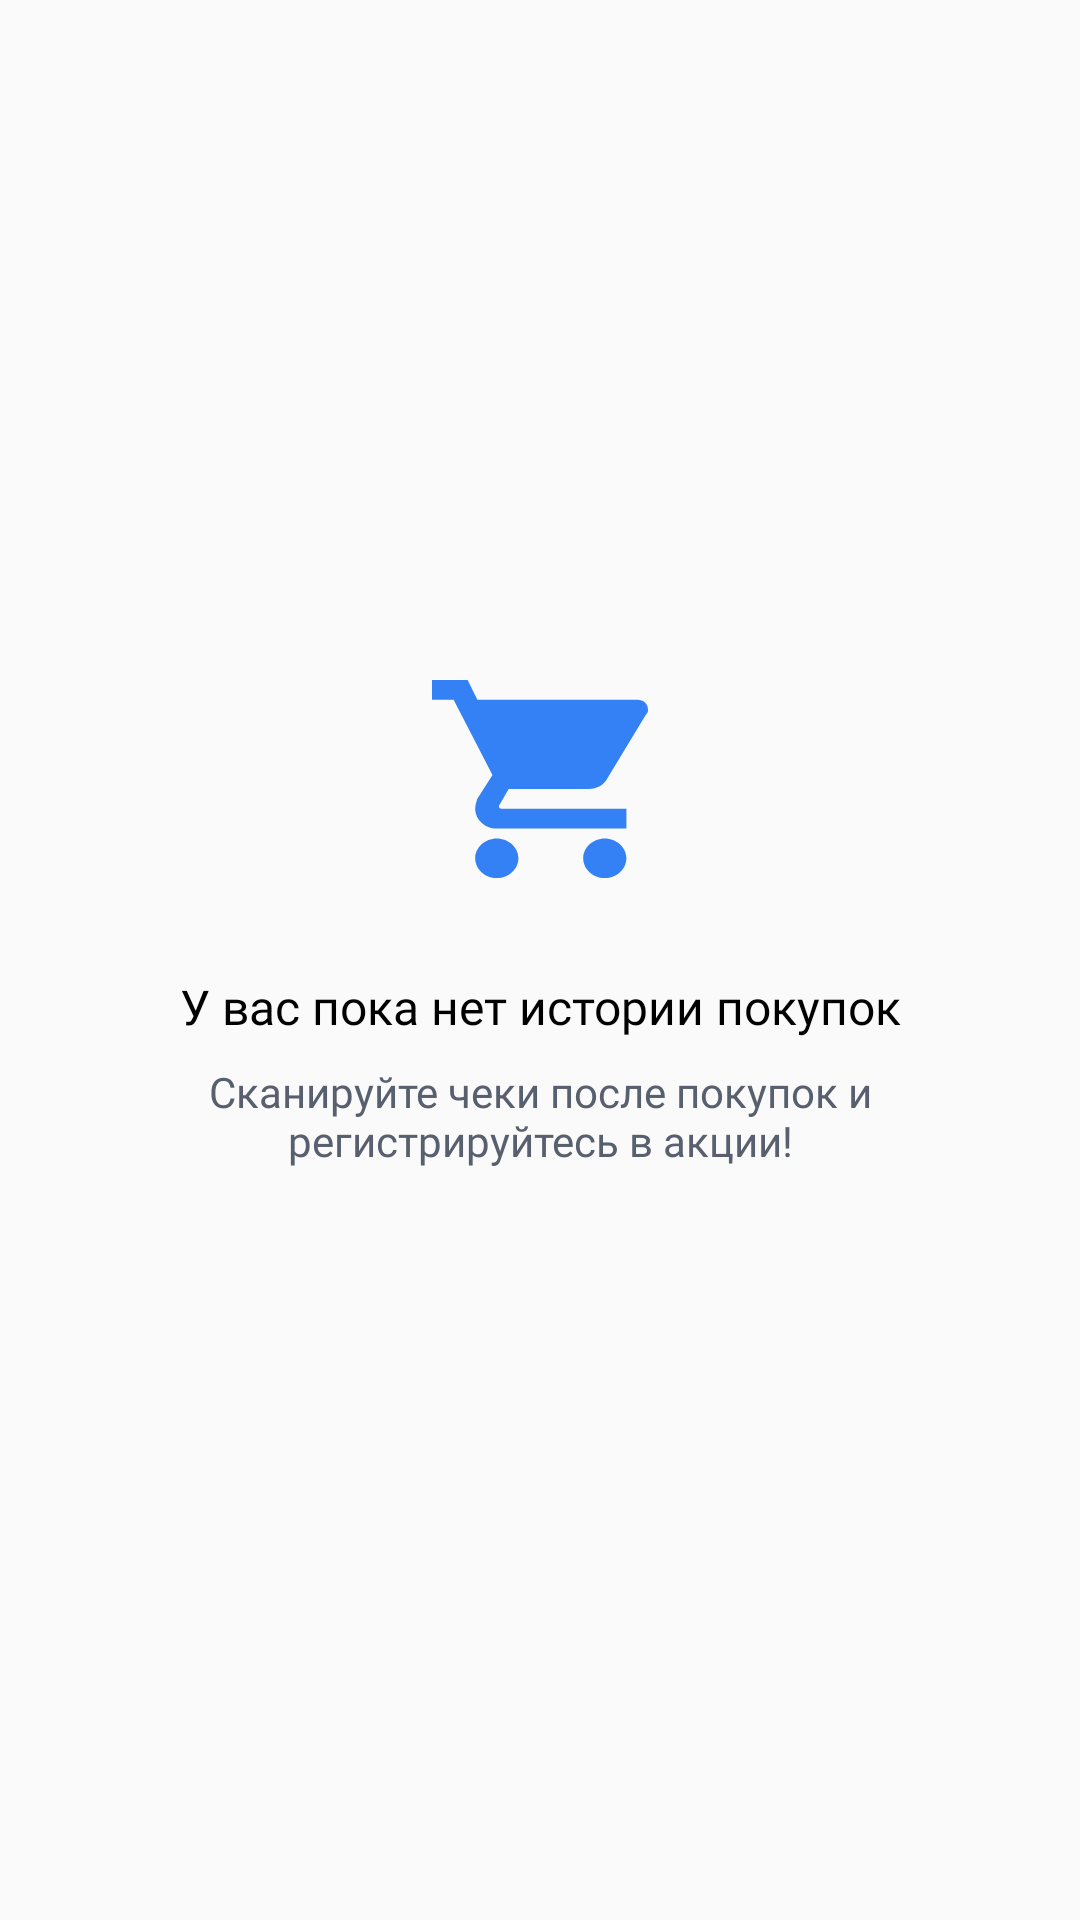

Where icons sit on this 1080 × 1920 app screen, as (x1, y1, x2, y2):
shopping cart: (432, 680, 648, 878)
